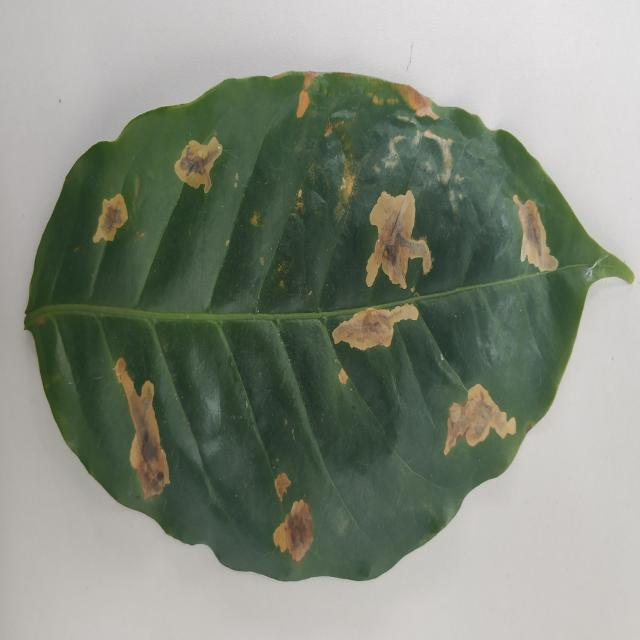Plaga-Minador: (24, 71, 634, 585)
